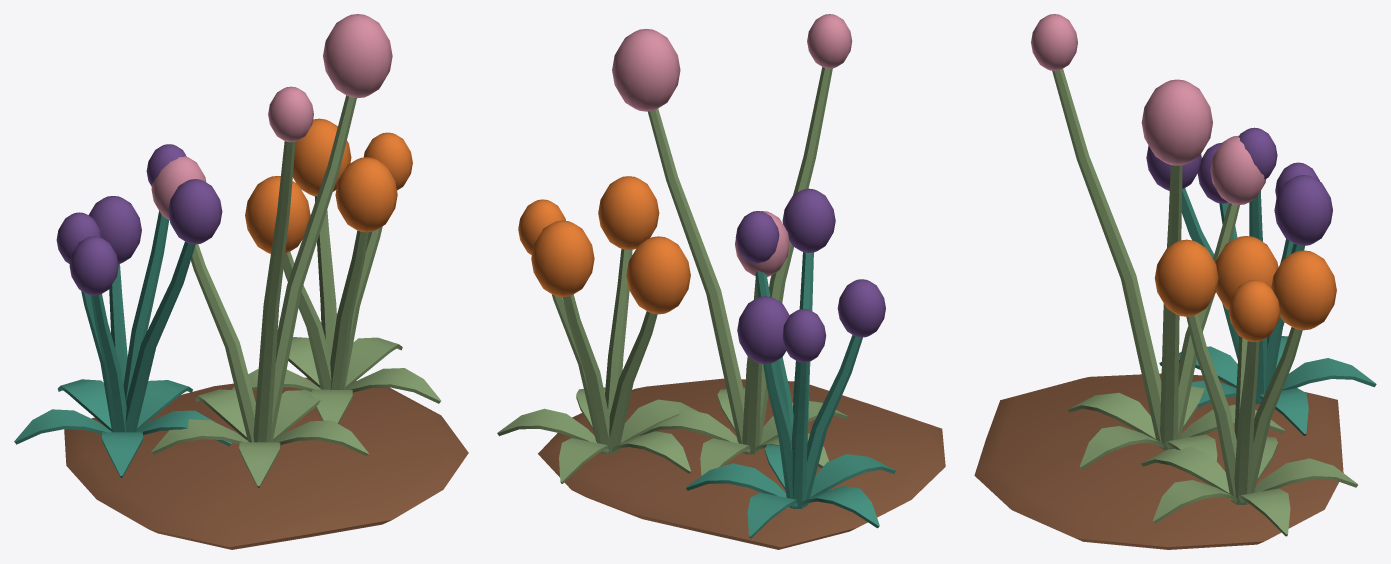
Rendered from deco_plant_bulb_wild.fbx.
The picture shows the model from 3 angles, left to right: view 1: azimuth 30°, elevation 25°; view 2: azimuth 150°, elevation 25°; view 3: azimuth 270°, elevation 25°; orthographic projection. The views are drawn at different scales.
Parts seen in each view (by area): view 1: Plant_BulbWild_Soil, Plant_BulbWild_Clump1, Plant_BulbWild_Clump3, Plant_BulbWild_Clump2; view 2: Plant_BulbWild_Soil, Plant_BulbWild_Clump2, Plant_BulbWild_Clump3, Plant_BulbWild_Clump1; view 3: Plant_BulbWild_Soil, Plant_BulbWild_Clump2, Plant_BulbWild_Clump1, Plant_BulbWild_Clump3.
Part boxes in pixels (x1,y1,x2,y2): Plant_BulbWild_Soil: (64, 377, 468, 549); Plant_BulbWild_Clump1: (151, 14, 392, 487); Plant_BulbWild_Clump3: (14, 144, 231, 477); Plant_BulbWild_Clump2: (232, 118, 441, 423); Plant_BulbWild_Soil: (538, 378, 945, 549); Plant_BulbWild_Clump2: (497, 176, 698, 483); Plant_BulbWild_Clump3: (686, 188, 895, 538); Plant_BulbWild_Clump1: (612, 14, 852, 475); Plant_BulbWild_Soil: (974, 373, 1343, 549); Plant_BulbWild_Clump2: (1141, 236, 1358, 536); Plant_BulbWild_Clump1: (1031, 14, 1284, 469); Plant_BulbWild_Clump3: (1146, 127, 1376, 435).
Size of the model in its own units: 126 by 132 by 110.
